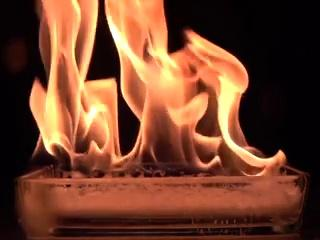Fire: (14, 1, 287, 181)
